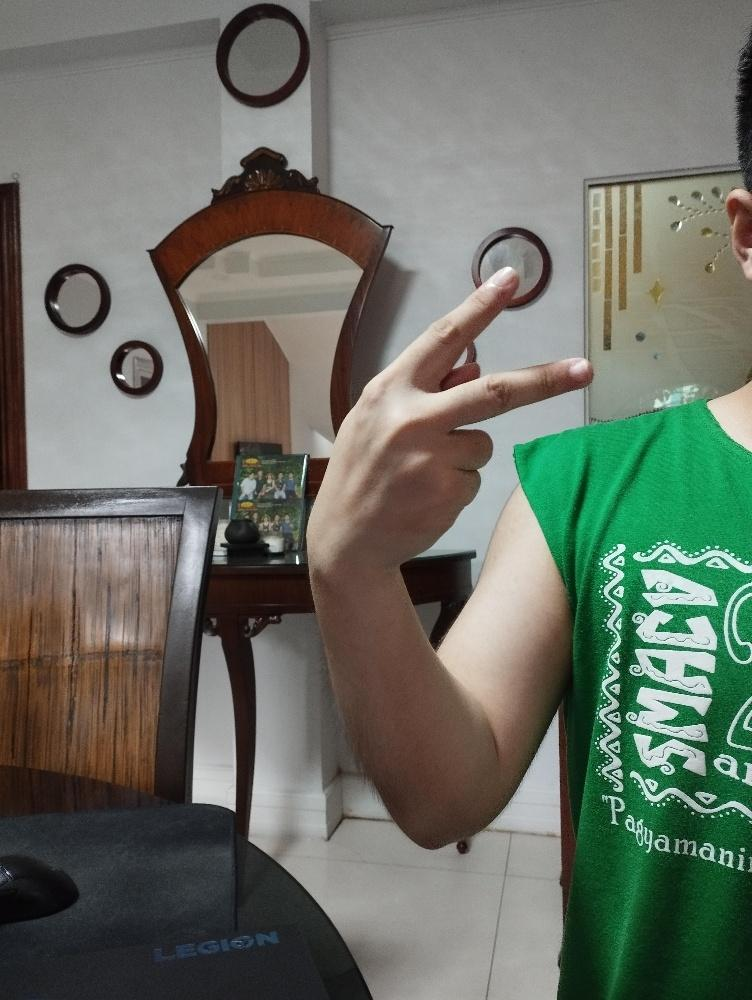k: (303, 262, 598, 576)
